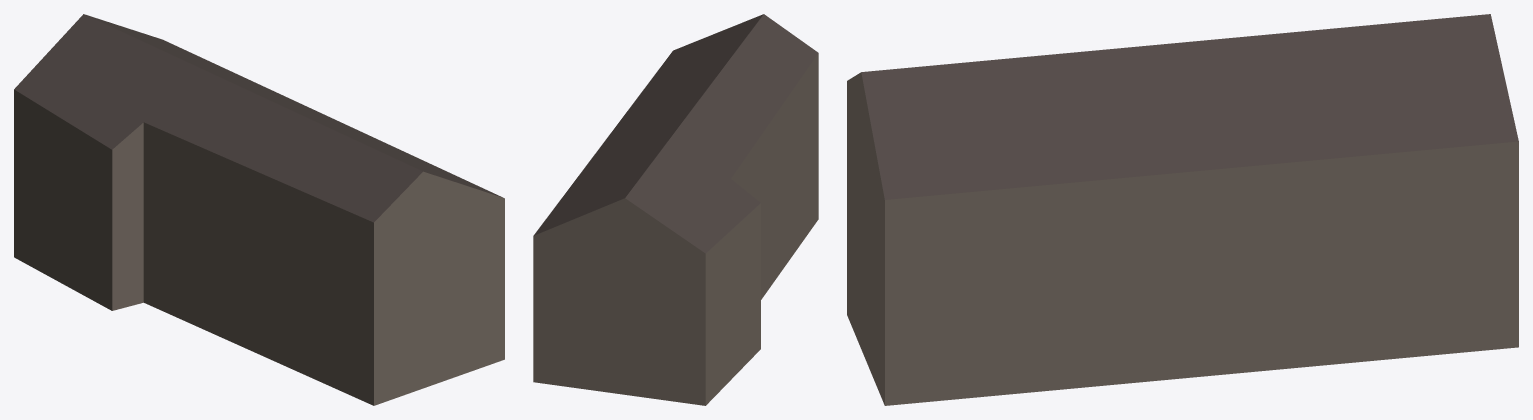
3 views of the same model, side by side, from view 1: azimuth 30°, elevation 25°; view 2: azimuth 150°, elevation 25°; view 3: azimuth 270°, elevation 25° (orthographic). The views are drawn at different scales.
Parts seen in each view (by area): view 1: HP-w1516161905; view 2: HP-w1516161905; view 3: HP-w1516161905.
Part boxes in pixels (x1,y1,x2,y2): HP-w1516161905: (14, 14, 504, 405); HP-w1516161905: (533, 14, 818, 405); HP-w1516161905: (847, 14, 1518, 405).
Size of the model in its own units: 10.26 by 8.07 by 17.74.
